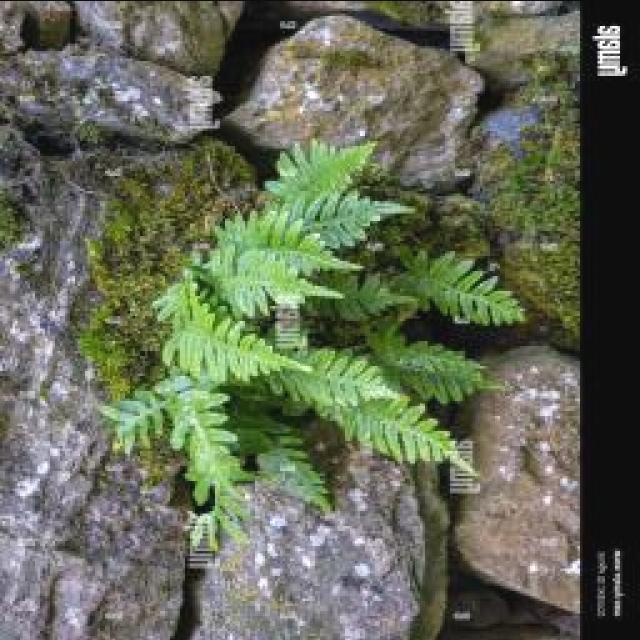Crack: (1, 1, 580, 638)
